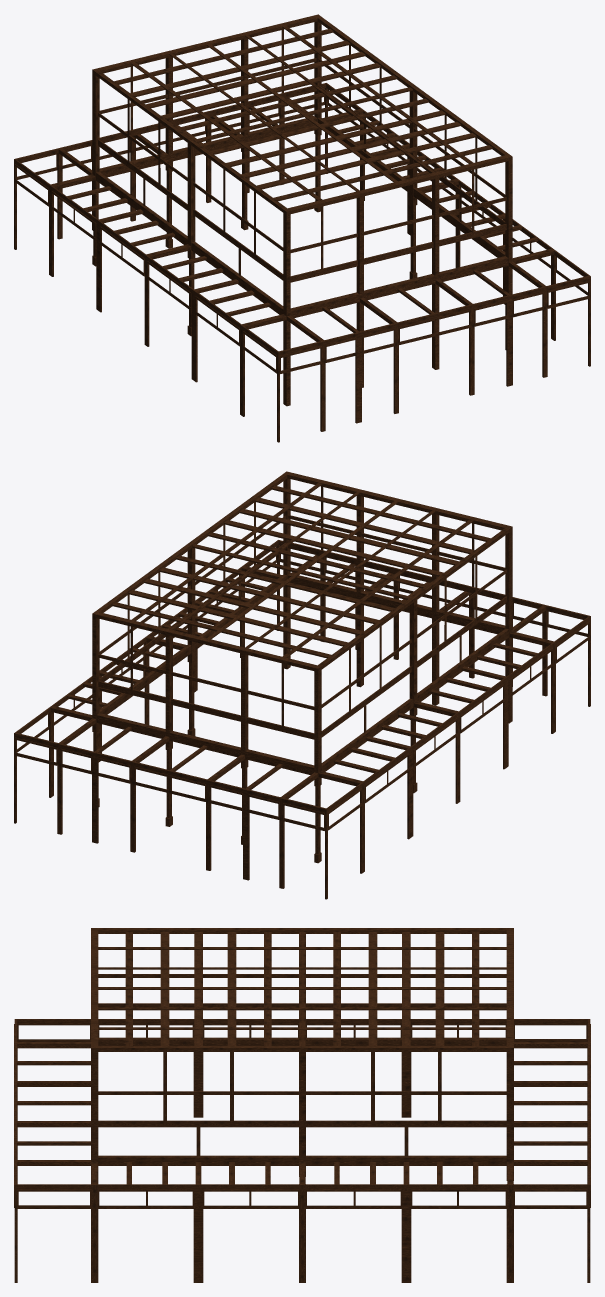
File: Dojo_Frame.fbx
The picture shows the model from 3 angles, top to bottom: view 1: azimuth 30°, elevation 25°; view 2: azimuth 150°, elevation 25°; view 3: azimuth 270°, elevation 25°; orthographic projection. The views are drawn at different scales.
Visible parts, largest first — view 1: poly_Dojo_Frame; view 2: poly_Dojo_Frame; view 3: poly_Dojo_Frame.
Boxes of the visible parts, left/top/right/bottom form: poly_Dojo_Frame: left=14, top=14, right=590, bottom=442; poly_Dojo_Frame: left=14, top=471, right=590, bottom=899; poly_Dojo_Frame: left=14, top=928, right=590, bottom=1282.
Size of the model in its own units: 14.92 by 8.85 by 21.85.
